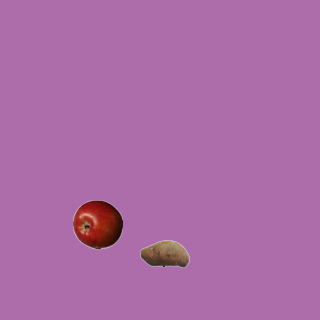Apple Braeburn: (72, 199, 122, 249)
Potato Sweet: (139, 228, 189, 278)
